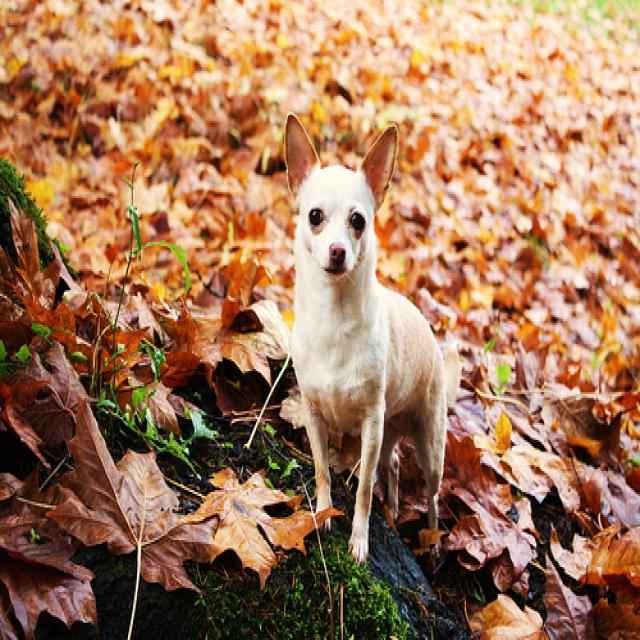dog-chihuahua: (280, 106, 468, 571)
